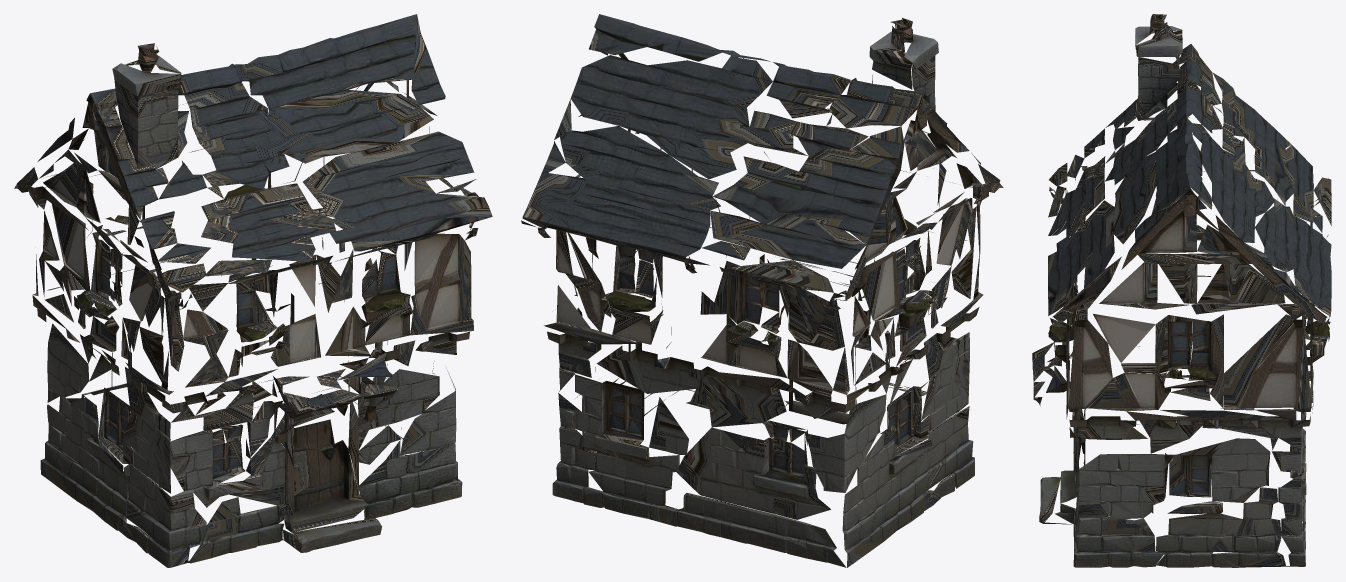
File: bld_house_player_normal_a_LOD1.glb
3 renders of one model, left to right at view 1: azimuth 30°, elevation 25°; view 2: azimuth 150°, elevation 25°; view 3: azimuth 270°, elevation 25°, orthographic. The views are drawn at different scales.
Parts seen in each view (by area): view 1: geometry_0; view 2: geometry_0; view 3: geometry_0.
Part boxes in pixels (bbox=[...]): geometry_0: bbox=[14, 14, 492, 567]; geometry_0: bbox=[521, 14, 1003, 567]; geometry_0: bbox=[1032, 14, 1331, 567].
Bounding box in the file's own units: 4.04 × 5.5 × 3.45.
Materials: 1 (1 with a texture image).
